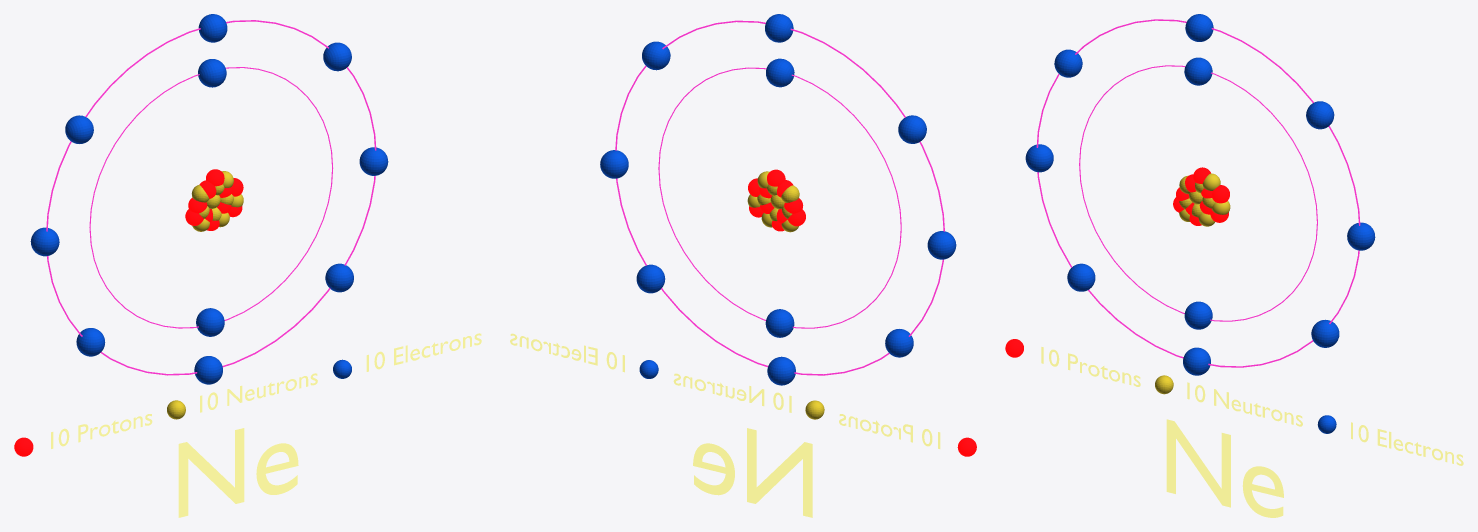
File: neon.glb
The picture shows the model from 3 angles, left to right: view 1: azimuth 30°, elevation 25°; view 2: azimuth 150°, elevation 25°; view 3: azimuth 330°, elevation 25°; orthographic projection.
Visible parts, largest first — view 1: Text, BézierCircle.001, BézierCircle, Text.003, Text.002, Sphere.001, Sphere.002, Sphere.026, Sphere.009, Sphere.030, Sphere.015, Sphere.016 (+4 smaller); view 2: Text, BézierCircle.001, BézierCircle, Text.002, Text.003, Sphere.030, Sphere.009, Sphere.016, Sphere.001, Sphere.026, Sphere.032, Sphere.015 (+4 smaller); view 3: Text, BézierCircle.001, BézierCircle, Text.002, Text.003, Sphere.002, Sphere.001, Sphere.026, Sphere.020, Sphere.022, Sphere.016, Sphere.009 (+4 smaller).
Boxes of the visible parts, left/top/right/bottom form: Text: left=178, top=428, right=298, bottom=517; BézierCircle.001: left=46, top=20, right=376, bottom=375; BézierCircle: left=89, top=67, right=333, bottom=328; Text.003: left=366, top=333, right=481, bottom=371; Text.002: left=200, top=373, right=317, bottom=412; Sphere.001: left=196, top=308, right=224, bottom=336; Sphere.002: left=198, top=59, right=226, bottom=87; Sphere.026: left=65, top=115, right=93, bottom=143; Sphere.009: left=359, top=147, right=388, bottom=175; Sphere.030: left=325, top=263, right=353, bottom=292; Sphere.015: left=198, top=14, right=227, bottom=42; Sphere.016: left=30, top=227, right=59, bottom=256; Text: left=693, top=428, right=812, bottom=517; BézierCircle.001: left=615, top=20, right=944, bottom=375; BézierCircle: left=658, top=67, right=901, bottom=328; Text.002: left=673, top=373, right=791, bottom=412; Text.003: left=510, top=333, right=624, bottom=372; Sphere.030: left=636, top=264, right=665, bottom=293; Sphere.009: left=600, top=150, right=628, bottom=178; Sphere.016: left=927, top=231, right=956, bottom=259; Sphere.001: left=765, top=309, right=794, bottom=337; Sphere.026: left=898, top=115, right=926, bottom=143; Sphere.032: left=767, top=356, right=795, bottom=385; Sphere.015: left=765, top=14, right=793, bottom=42; Text: left=1166, top=419, right=1283, bottom=517; BézierCircle.001: left=1036, top=19, right=1360, bottom=367; BézierCircle: left=1079, top=65, right=1317, bottom=321; Text.002: left=1187, top=382, right=1302, bottom=426; Text.003: left=1351, top=422, right=1463, bottom=465; Sphere.002: left=1184, top=57, right=1212, bottom=85; Sphere.001: left=1184, top=301, right=1212, bottom=329; Sphere.026: left=1054, top=49, right=1082, bottom=77; Sphere.020: left=1067, top=263, right=1095, bottom=291; Sphere.022: left=1306, top=101, right=1334, bottom=129; Sphere.016: left=1025, top=144, right=1053, bottom=172; Sphere.009: left=1347, top=222, right=1375, bottom=250.
Bounding box in the file's own units: 4.49 × 4.56 × 0.2925.
